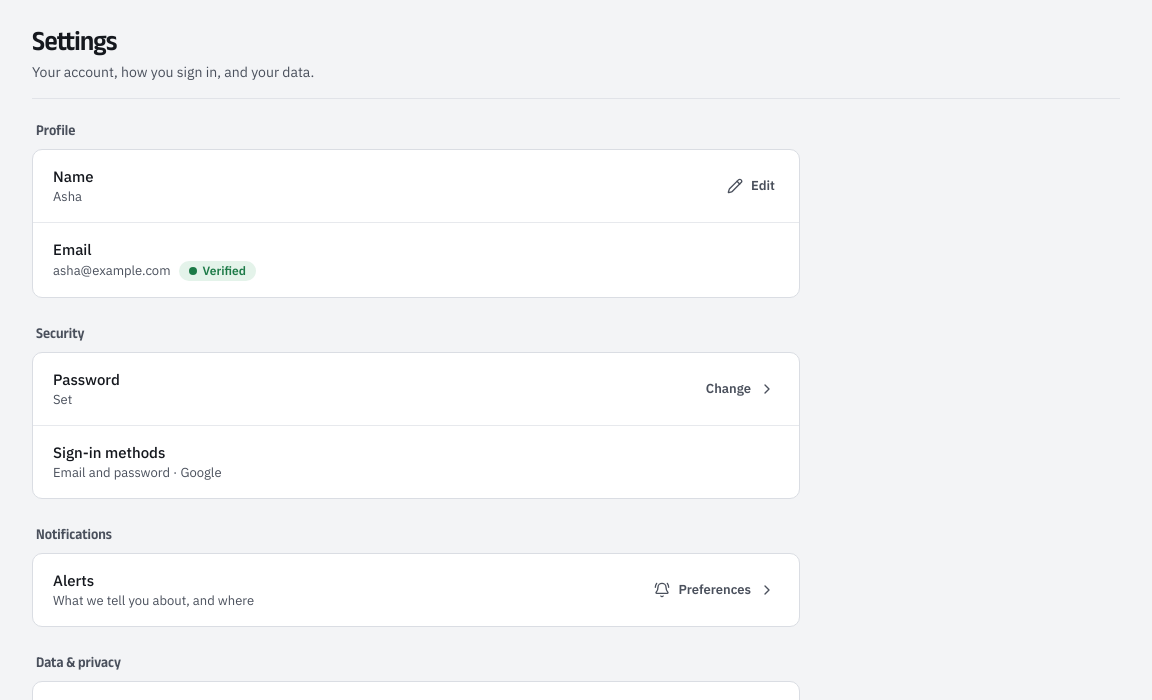
Test: SettingsPage › says so when the current password is wrong
Click the button "Change" at {"x": 740, "y": 389}, box [694,373,787,405]
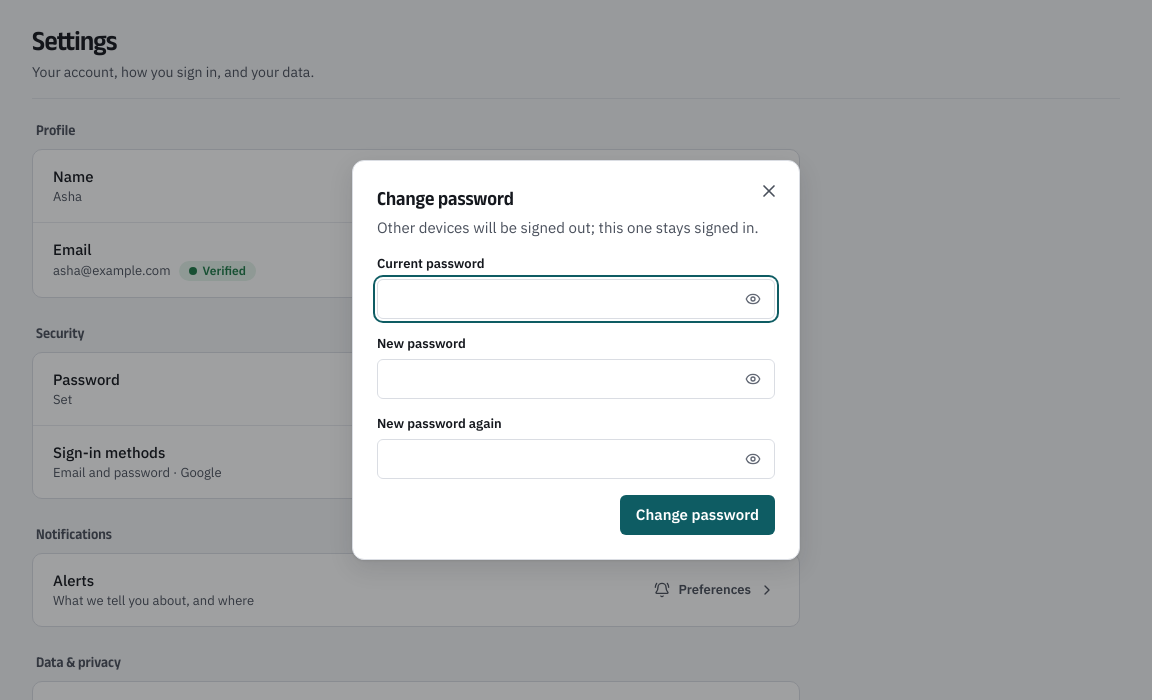
Type "wrong" into the password field labelled "Current password" at {"x": 576, "y": 299}, box [377,279,775,319]
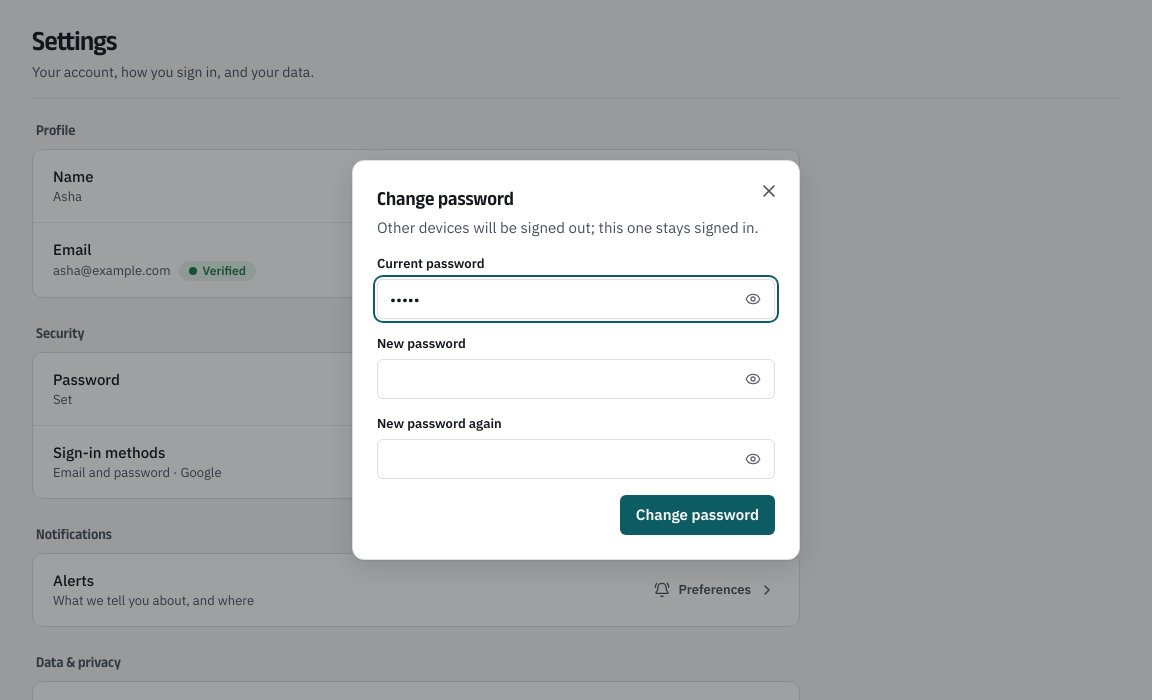
Type "new-password-2" into the password field labelled "New password" at {"x": 576, "y": 379}, box [377,359,775,399]
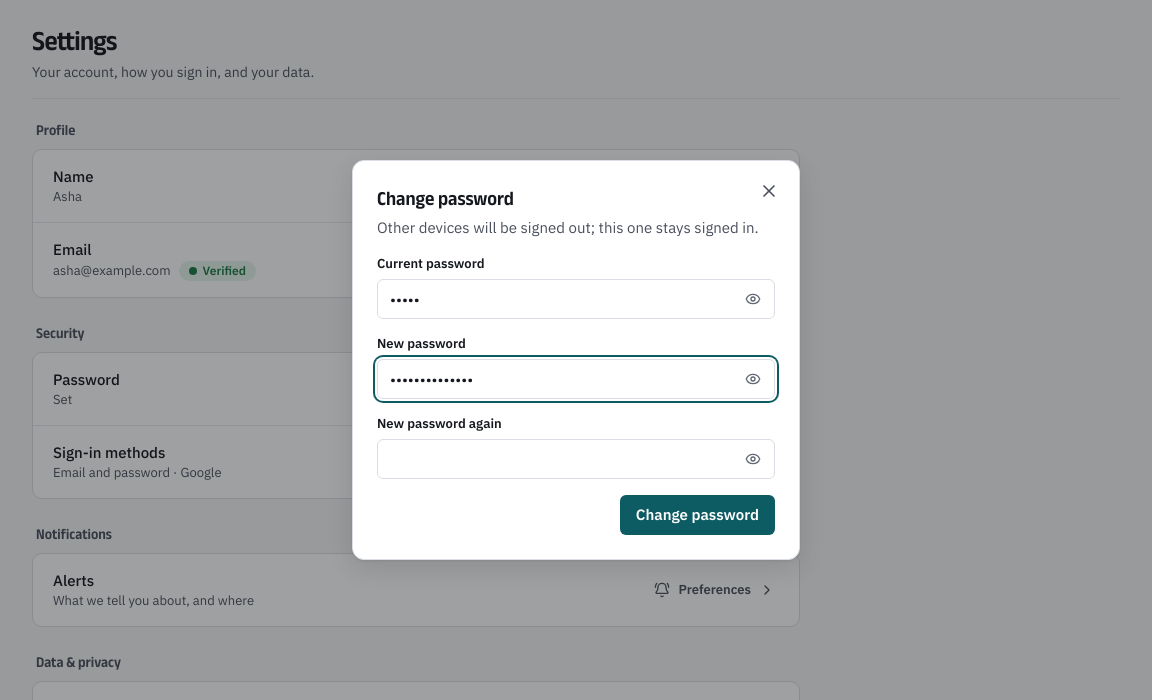
Type "new-password-2" into the password field labelled "New password again" at {"x": 576, "y": 459}, box [377,439,775,479]
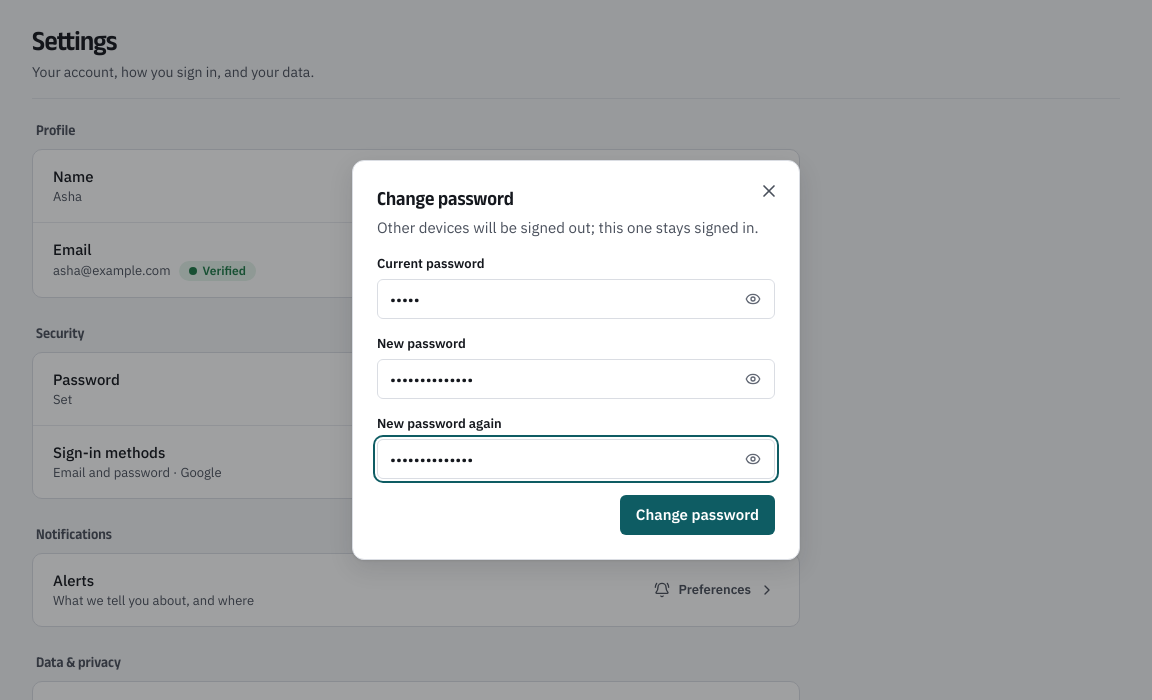
Click the button "Change password" at {"x": 697, "y": 515}, box [620,495,775,535]
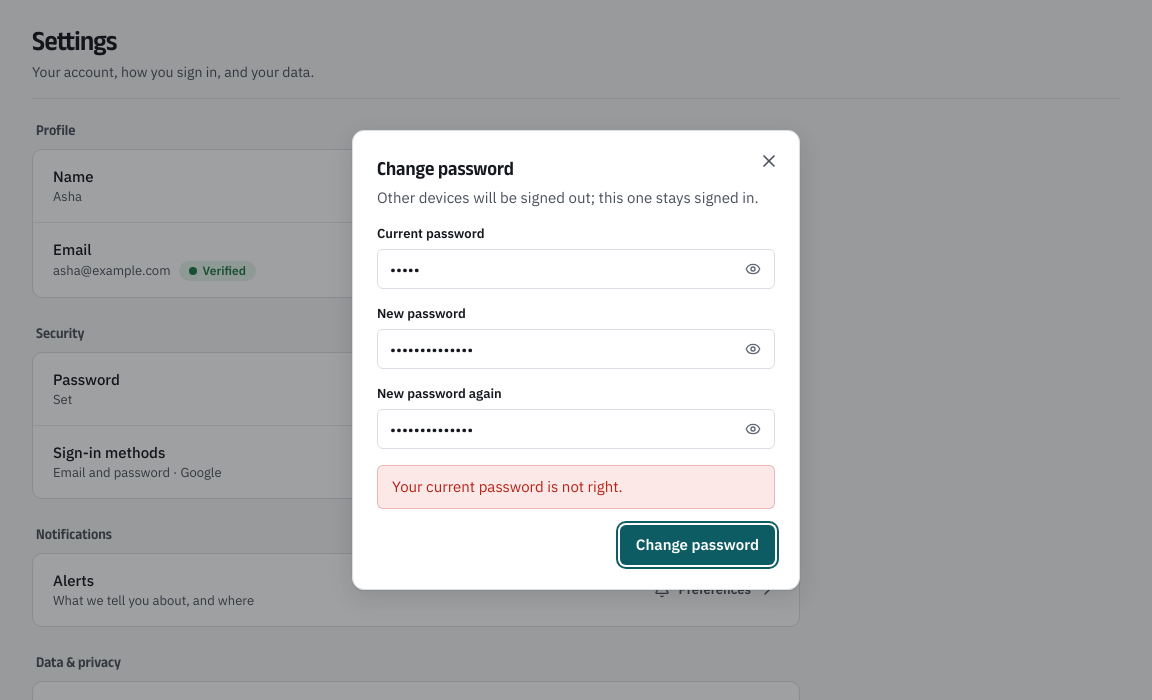
Expected: the text "Your current password is not right." is shown, [377,465,775,509]
